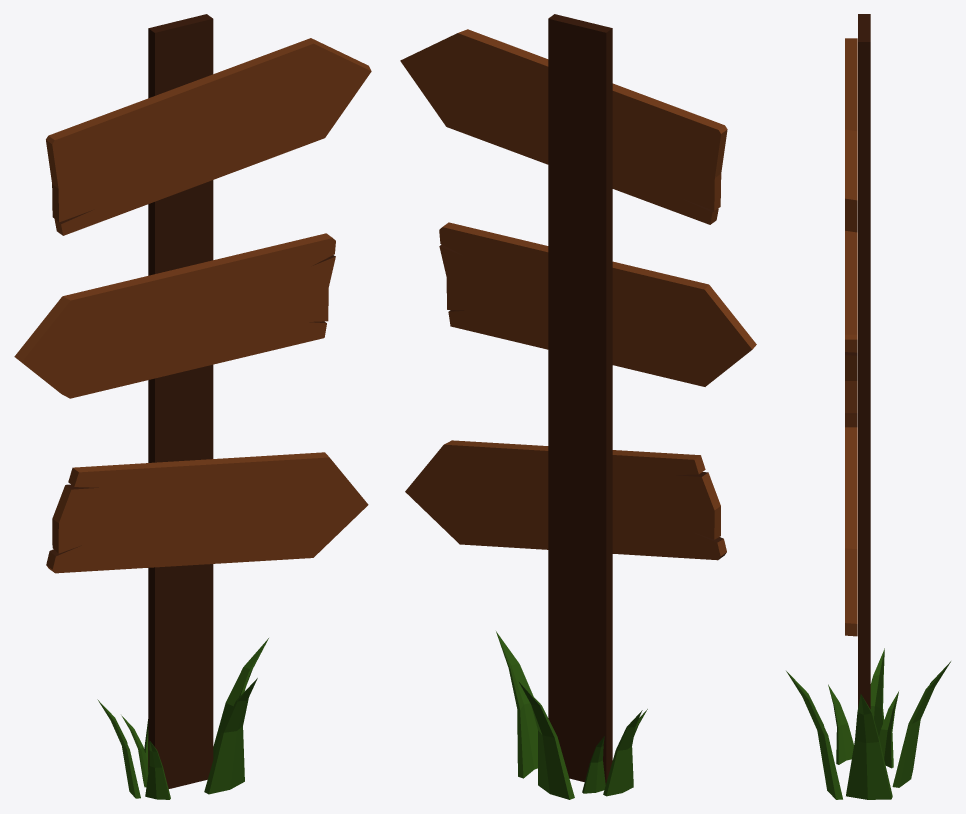
The model's file is Sign3.obj.
The picture shows the model from 3 angles, left to right: view 1: azimuth 30°, elevation 25°; view 2: azimuth 150°, elevation 25°; view 3: azimuth 270°, elevation 25°; orthographic projection.
Visible parts, largest first — view 1: Sign3; view 2: Sign3; view 3: Sign3.
Part boxes in pixels (box(x1,y1,x2,y2)): Sign3: box(14, 14, 371, 799); Sign3: box(400, 14, 756, 799); Sign3: box(786, 14, 950, 799).
Size of the model in its own units: 0.9682 by 1.98 by 0.4007.
